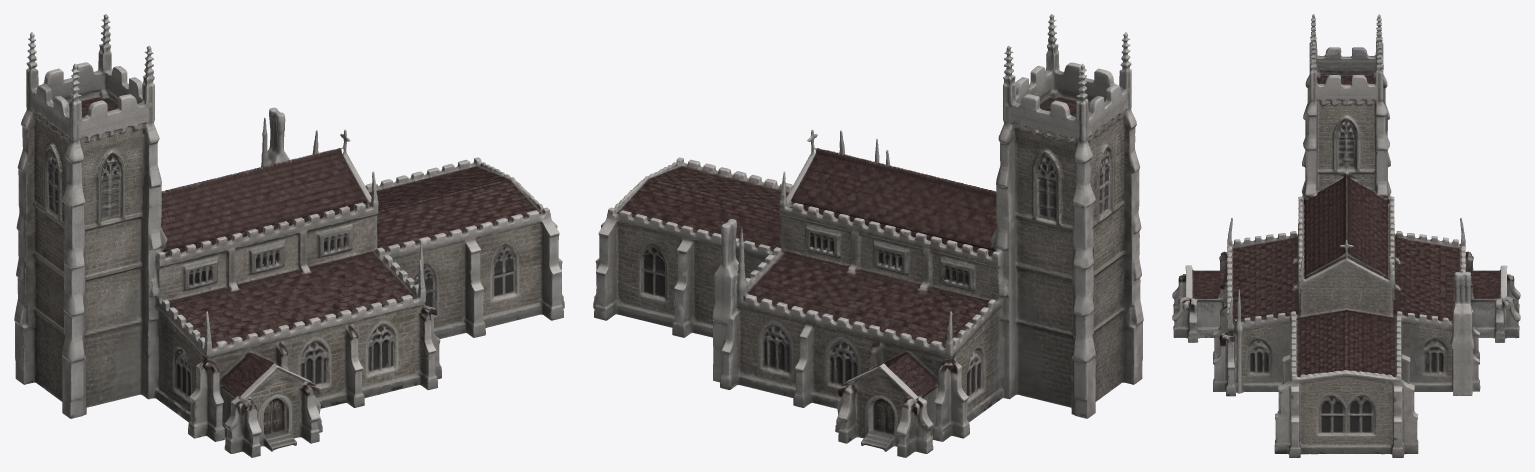
The model's file is kapelle.glb.
3 renders of one model, left to right at view 1: azimuth 30°, elevation 25°; view 2: azimuth 150°, elevation 25°; view 3: azimuth 270°, elevation 25°, orthographic. The views are drawn at different scales.
Size of the model in its own units: 1.9 by 1.31 by 1.54.
1 material, 1 textured.
